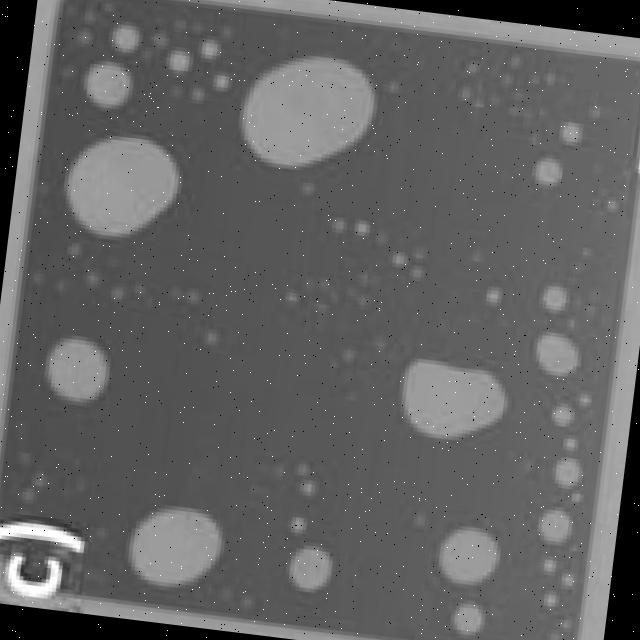chip: (0, 0, 640, 640)
void: (241, 56, 375, 167), (66, 136, 178, 236), (401, 360, 508, 439), (128, 506, 222, 587), (47, 335, 108, 403), (438, 526, 500, 584), (83, 60, 131, 108), (288, 545, 332, 591), (535, 332, 579, 376), (538, 509, 572, 544), (451, 604, 482, 635), (533, 156, 563, 186), (553, 457, 582, 488), (112, 24, 139, 52), (541, 285, 567, 313), (167, 49, 192, 70), (561, 122, 582, 142), (201, 40, 219, 58), (213, 75, 229, 90)
